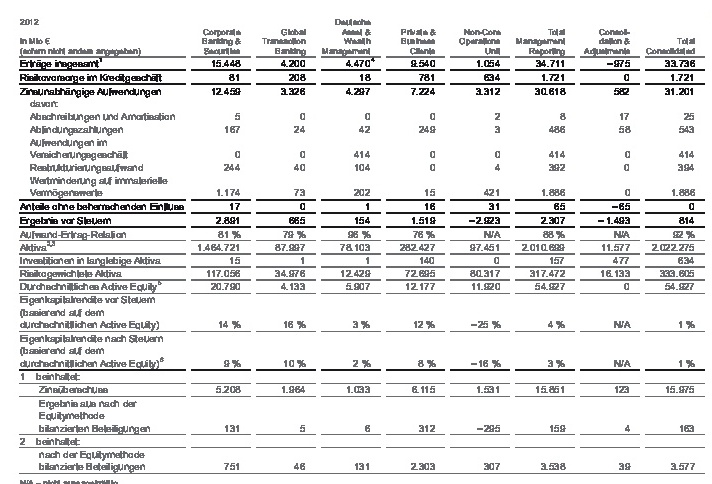table: (0, 0, 712, 484)
